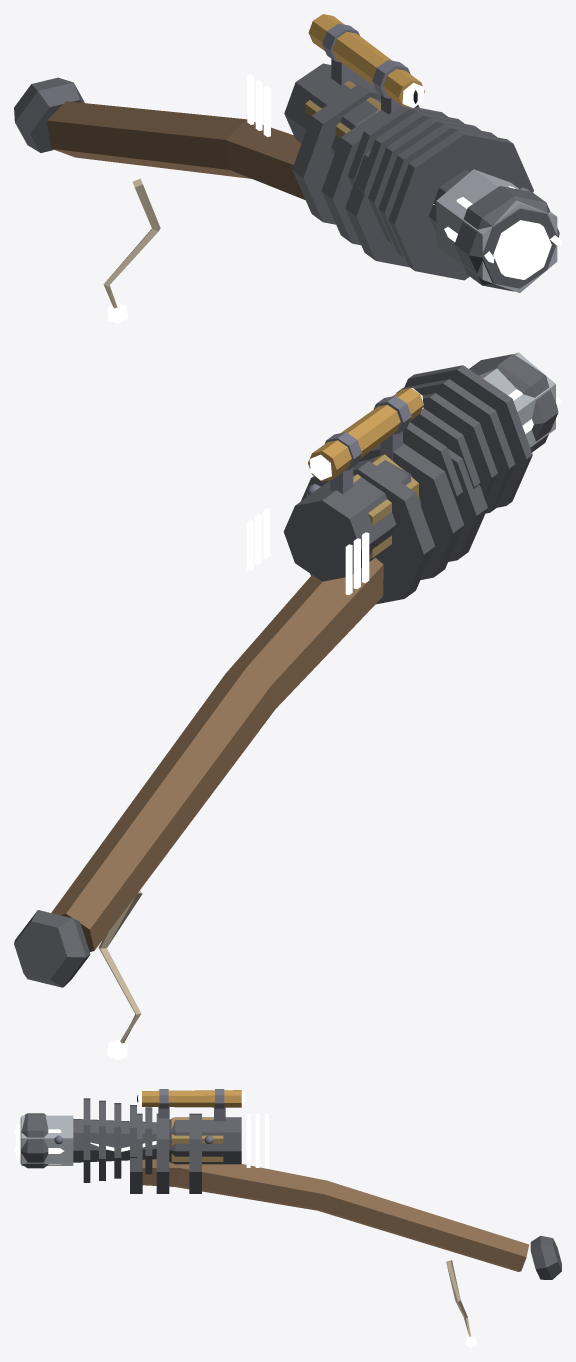
The model's file is gun-hot-barrel.glb.
3 renders of one model, top to bottom at view 1: azimuth 30°, elevation 25°; view 2: azimuth 150°, elevation 25°; view 3: azimuth 270°, elevation 25°, orthographic. The views are drawn at different scales.
Visible parts, largest first — view 1: gun-hot-barrel, sway_sinew, pulse_breath, blink_lens; view 2: gun-hot-barrel, pulse_breath, sway_sinew; view 3: gun-hot-barrel, pulse_breath, sway_sinew.
Boxes of the visible parts, x1,y1,x2,y2 form: gun-hot-barrel: (14, 14, 559, 292); sway_sinew: (103, 178, 160, 323); pulse_breath: (247, 74, 270, 136); blink_lens: (402, 82, 424, 107); gun-hot-barrel: (14, 352, 558, 987); pulse_breath: (246, 508, 369, 594); sway_sinew: (98, 890, 142, 1060); gun-hot-barrel: (16, 1089, 561, 1279); pulse_breath: (246, 1113, 268, 1167); sway_sinew: (446, 1260, 476, 1347).
Size of the model in its own units: 0.1564 by 0.4951 by 0.9509.
